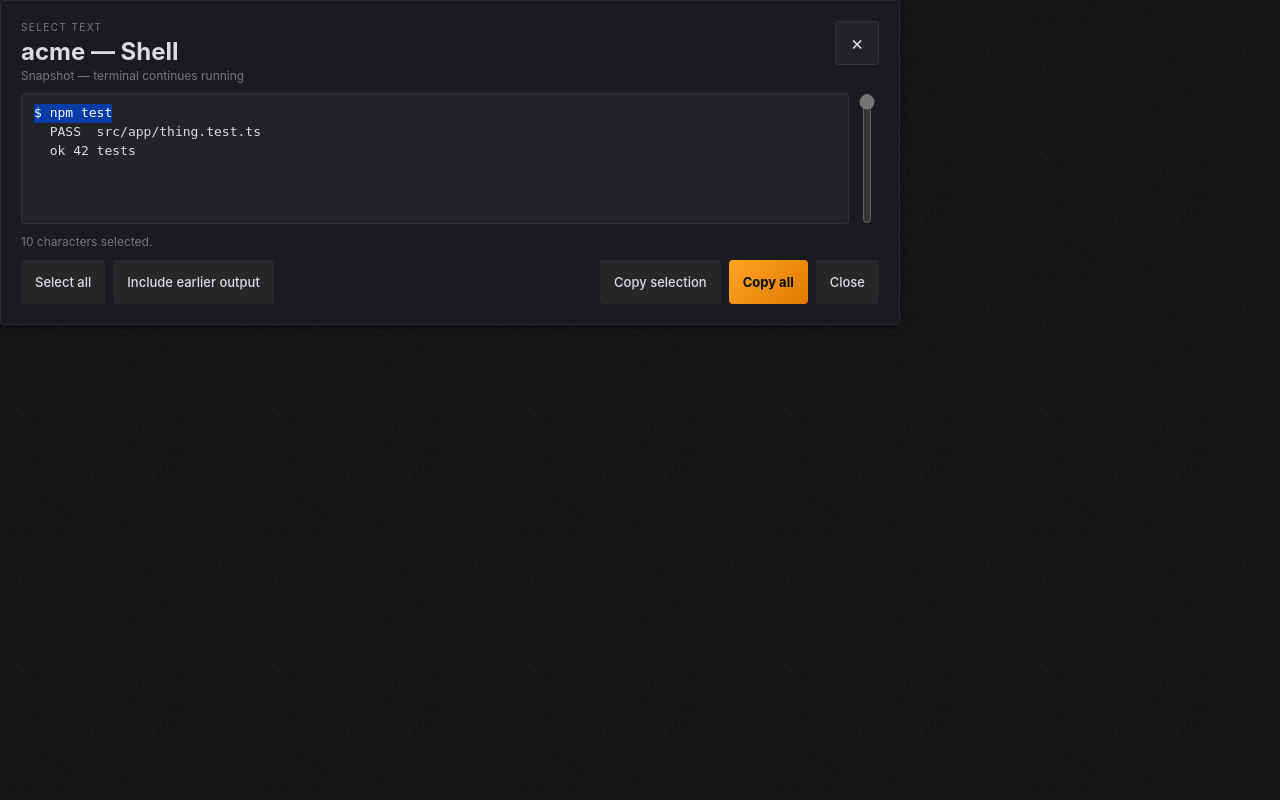
Test: TerminalTextSelectionDialog › copy › reports a blocked clipboard without claiming success, and keeps text and selection
Click the button "Copy selection" at (660, 282), box x1=600 y1=260 x2=721 y2=304
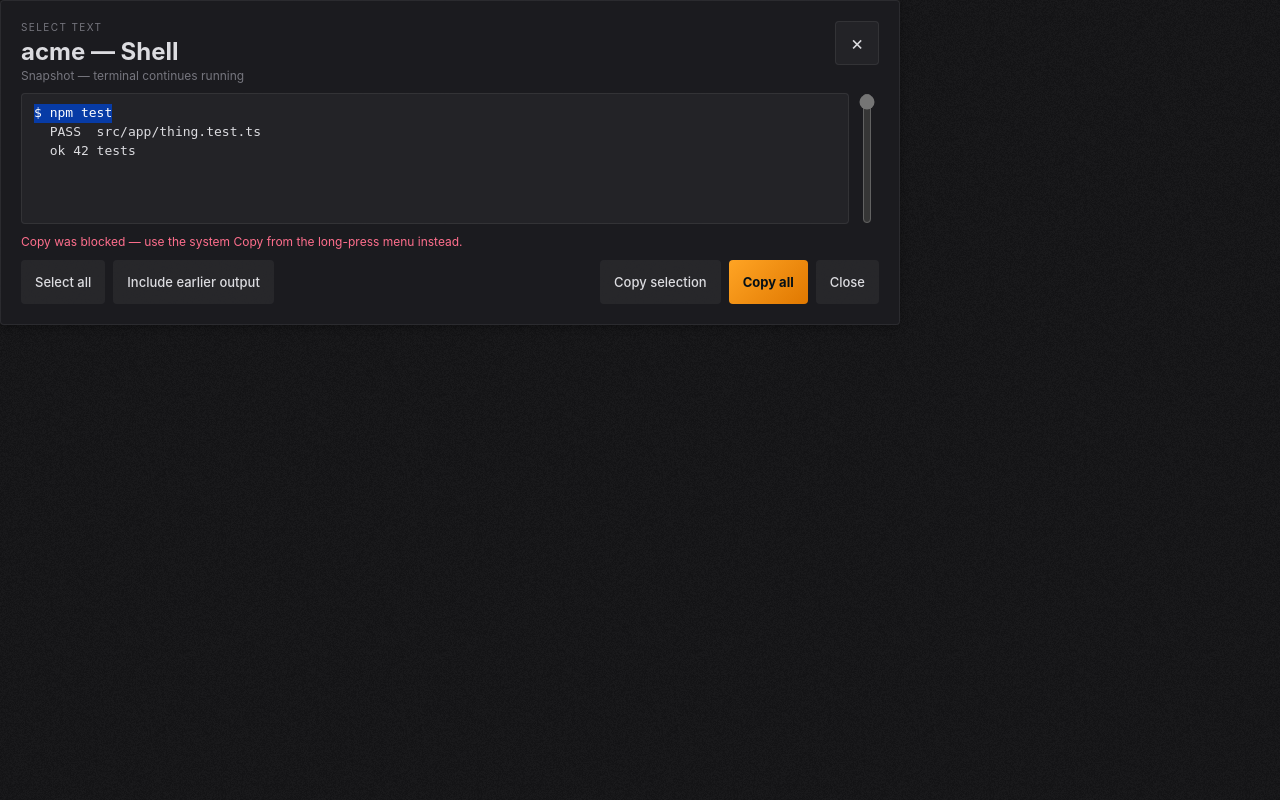
Result: the text "Copy was blocked" is shown at x1=21 y1=234 x2=462 y2=249
